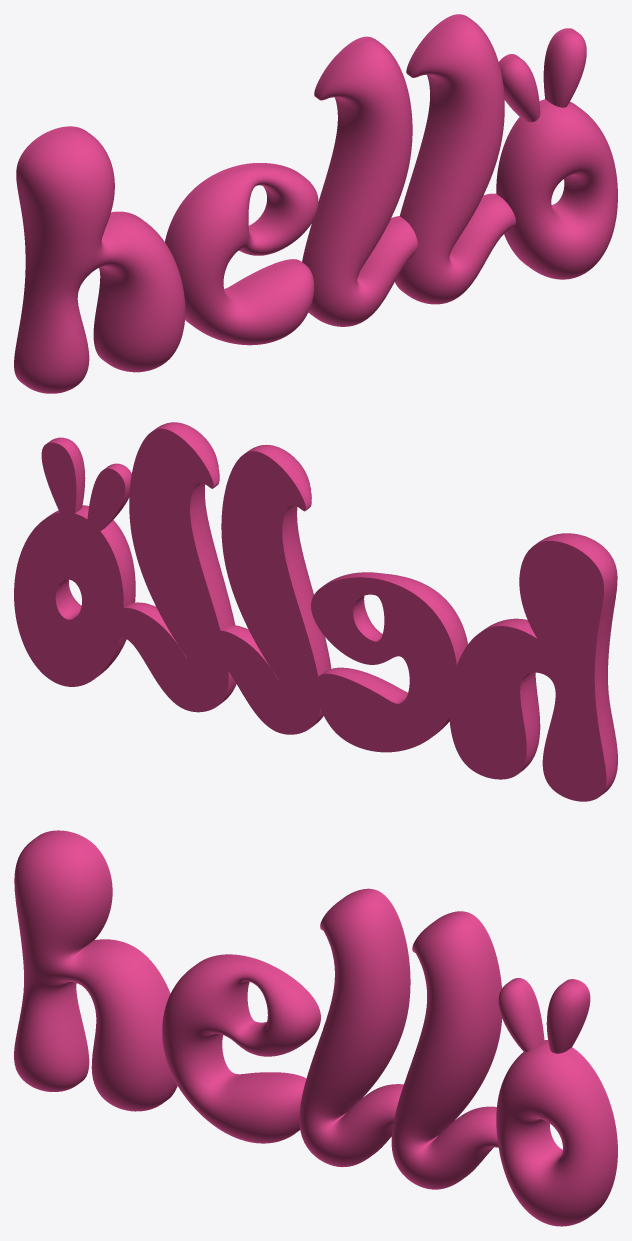
The model's file is hola.glb.
The picture shows the model from 3 angles, top to bottom: view 1: azimuth 30°, elevation 25°; view 2: azimuth 150°, elevation 25°; view 3: azimuth 330°, elevation 25°; orthographic projection.
Parts seen in each view (by area): view 1: Recurso 1hello; view 2: Recurso 1hello; view 3: Recurso 1hello.
Part boxes in pixels (x1,y1,x2,y2): Recurso 1hello: (14, 14, 617, 393); Recurso 1hello: (14, 422, 617, 801); Recurso 1hello: (14, 830, 617, 1226).
Size of the model in its own units: 19.47 by 8.84 by 1.88.
